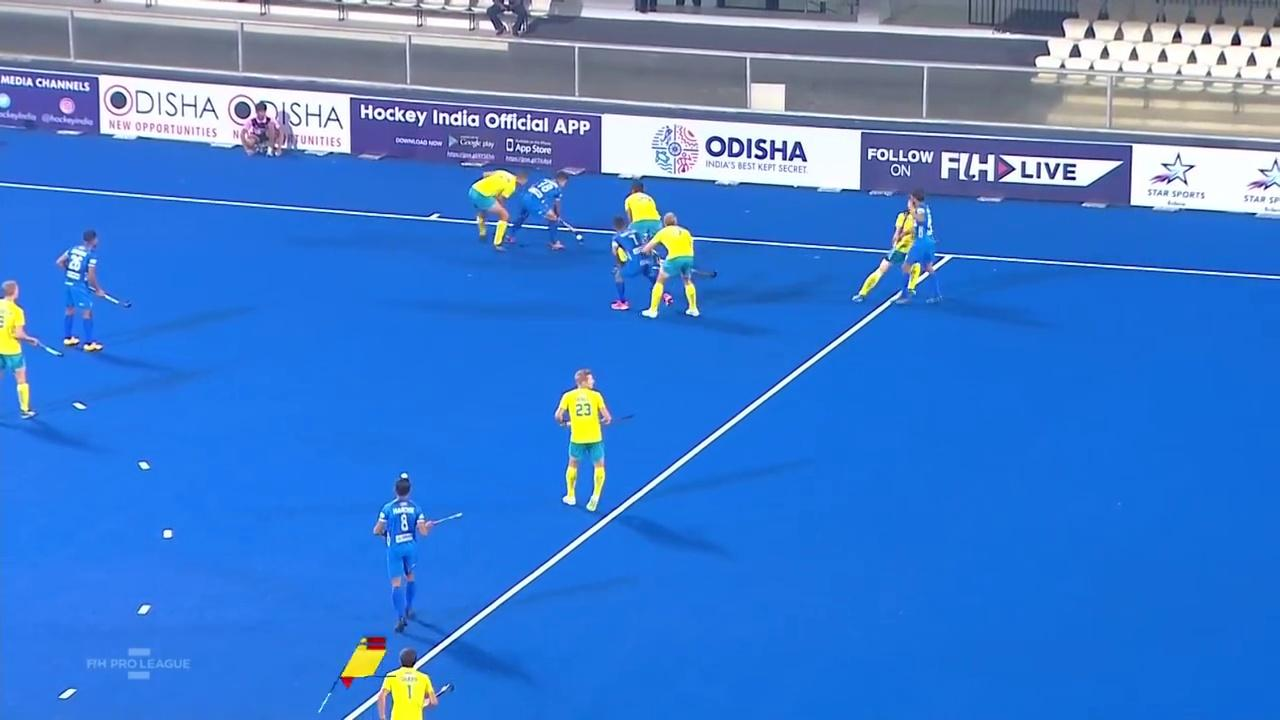ball: (571, 231, 588, 247)
